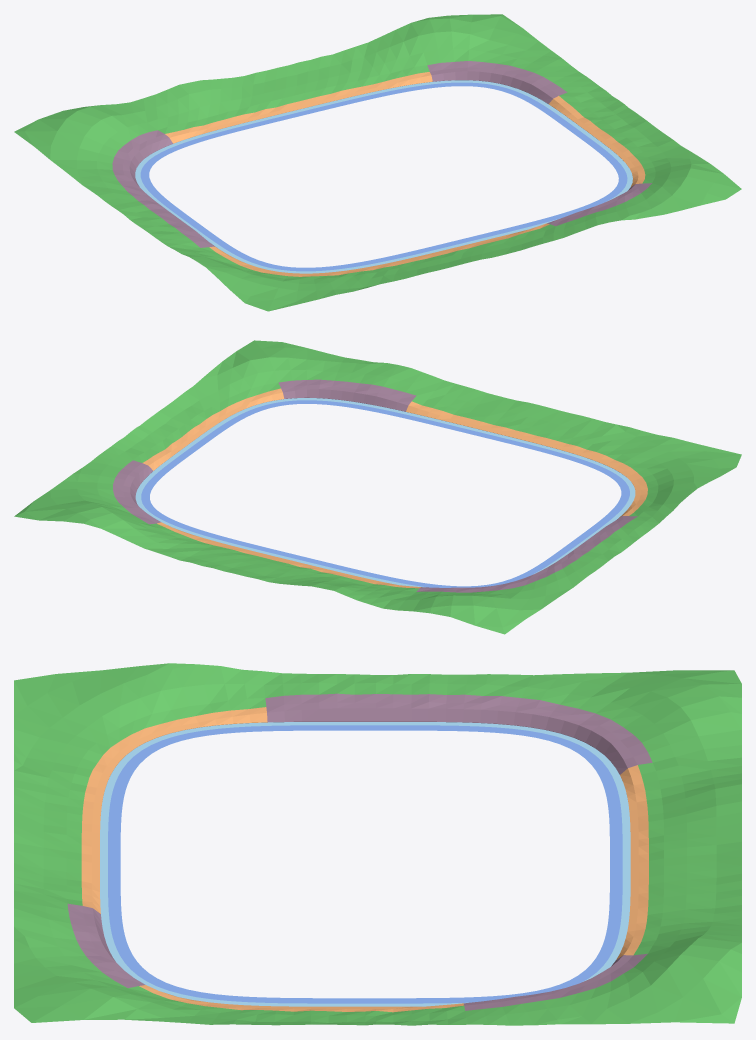
The model's file is bay.glb.
The picture shows the model from 3 angles, top to bottom: view 1: azimuth 30°, elevation 25°; view 2: azimuth 150°, elevation 25°; view 3: azimuth 270°, elevation 25°; orthographic projection. The views are drawn at different scales.
Parts seen in each view (by area): view 1: Mesh; view 2: Mesh; view 3: Mesh.
Part boxes in pixels (x1,y1,x2,y2): Mesh: [14, 14, 741, 311]; Mesh: [14, 340, 741, 634]; Mesh: [14, 663, 741, 1025].
Size of the model in its own units: 98 by 4.82 by 86.
